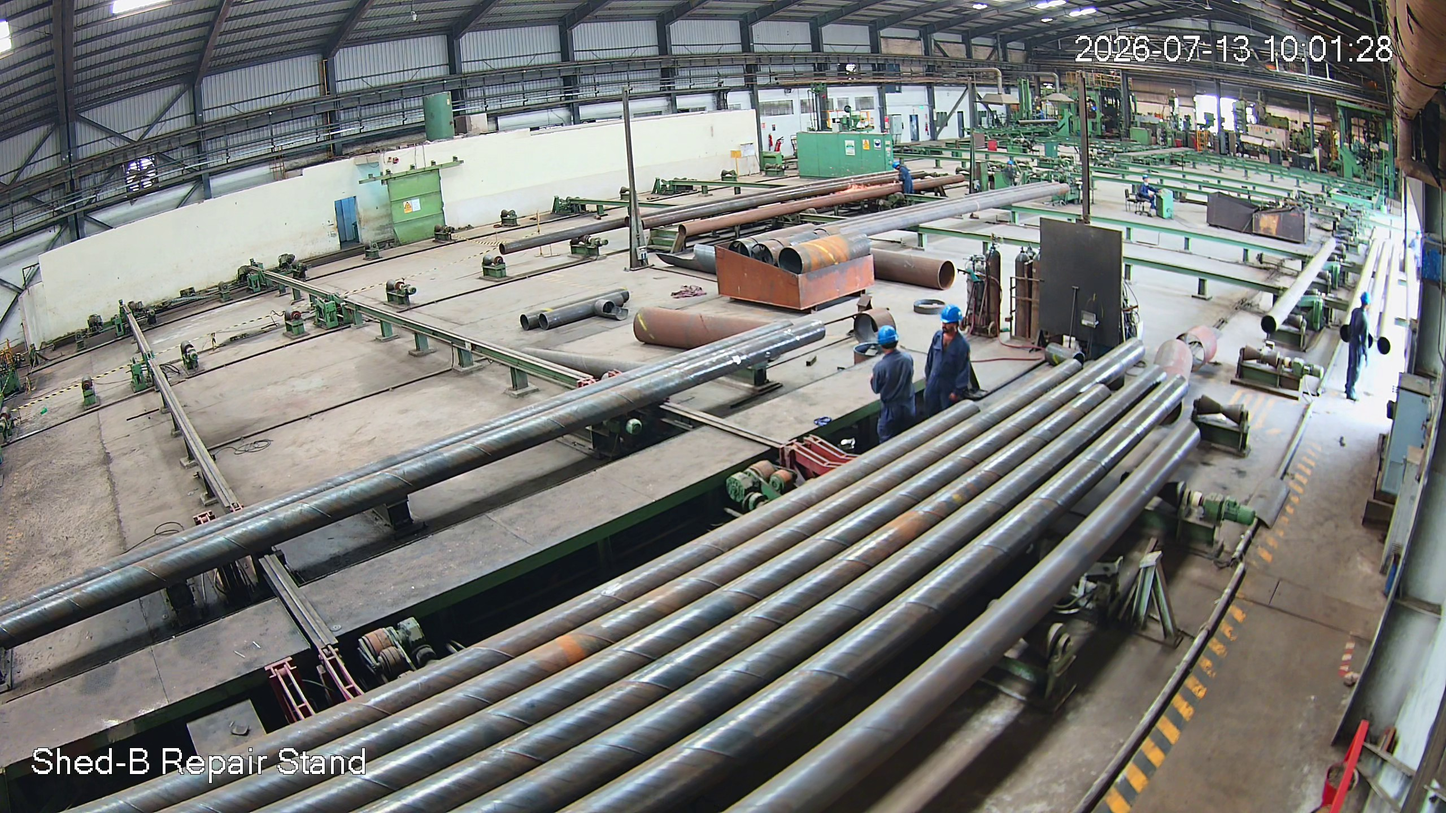Helmet: (875, 323, 908, 360), (937, 303, 965, 338), (1357, 291, 1375, 311)
Person: (917, 306, 970, 414), (869, 325, 918, 436), (1342, 292, 1376, 402)
